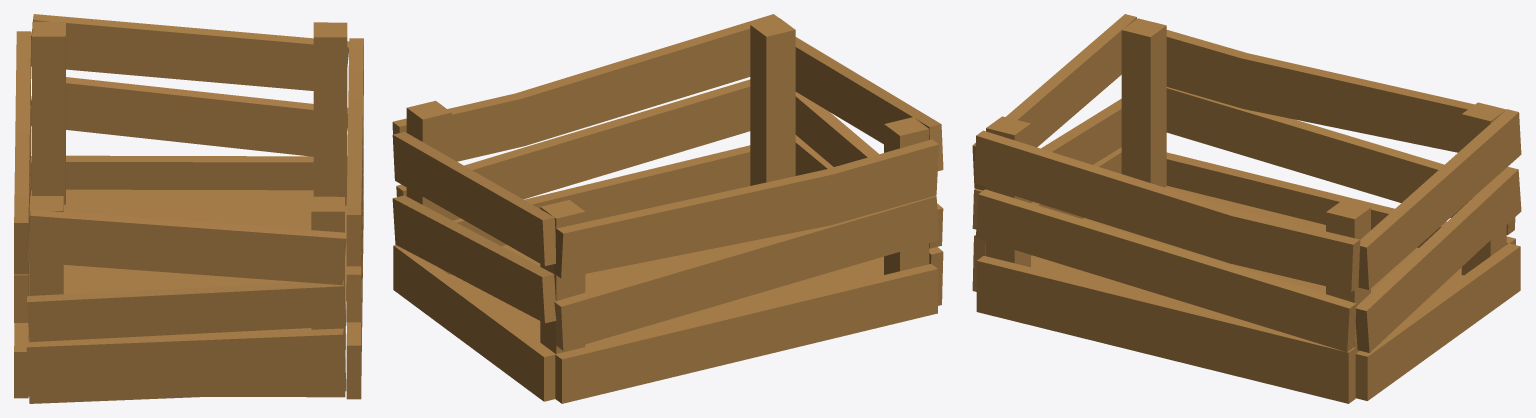
Rendered from emprt_box.fbx.
3 renders of one model, left to right at view 1: azimuth 30°, elevation 25°; view 2: azimuth 150°, elevation 25°; view 3: azimuth 270°, elevation 25°, orthographic. The views are drawn at different scales.
Parts seen in each view (by area): view 1: pCube513; view 2: pCube513; view 3: pCube513.
Boxes of the visible parts, left/top/right/bottom form: pCube513: left=14, top=14, right=363, bottom=403; pCube513: left=392, top=14, right=943, bottom=403; pCube513: left=972, top=14, right=1521, bottom=403.
Size of the model in its own units: 104 by 40.59 by 112.
